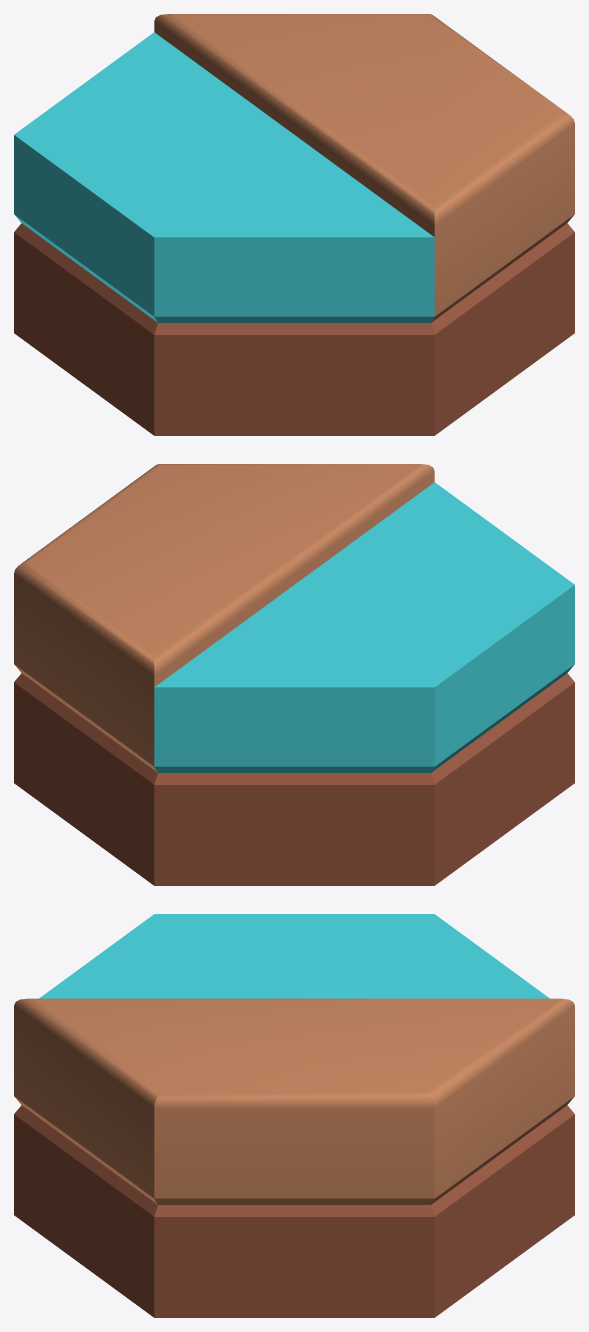
Rendered from hex_rock_waterB_detail.glb.
3 views of the same model, one above another, from view 1: azimuth 30°, elevation 25°; view 2: azimuth 150°, elevation 25°; view 3: azimuth 270°, elevation 25° (orthographic).
Visible parts, largest first — view 1: hex_rock_waterB_detail; view 2: hex_rock_waterB_detail; view 3: hex_rock_waterB_detail.
Boxes of the visible parts, x1,y1,x2,y2 form: hex_rock_waterB_detail: (14, 14, 574, 435); hex_rock_waterB_detail: (14, 464, 574, 885); hex_rock_waterB_detail: (14, 914, 574, 1317).
Size of the model in its own units: 3.82 by 1.91 by 4.41.
